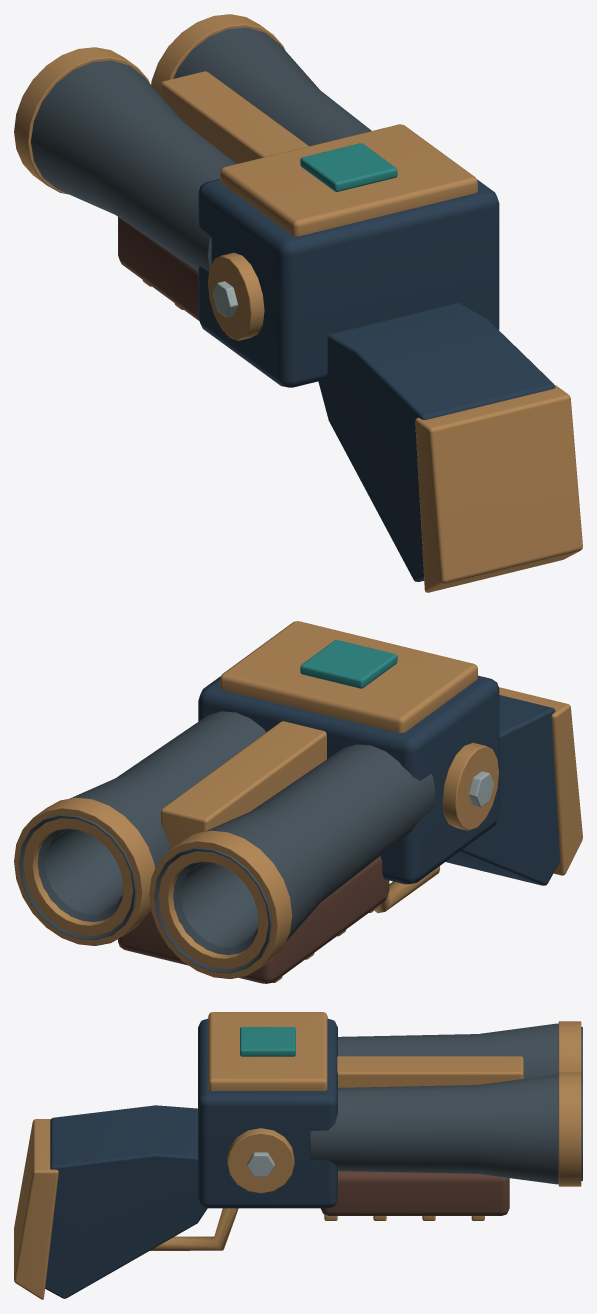
The model's file is shotgun.glb.
3 views of the same model, one above another, from view 1: azimuth 30°, elevation 25°; view 2: azimuth 150°, elevation 25°; view 3: azimuth 270°, elevation 25° (orthographic). The views are drawn at different scales.
Parts seen in each view (by area): view 1: shotgun__receiver, shotgun__stock_plate, shotgun__short_stock, shotgun__scatter_barrel_0, shotgun__receiver_top, shotgun__scatter_barrel_1, shotgun__barrel_bridge, shotgun__lower_handguard, shotgun__scatter_lip_0, shotgun__hinge_neg1, shotgun__core_inlay, shotgun__scatter_lip_1; view 2: shotgun__scatter_barrel_0, shotgun__scatter_barrel_1, shotgun__receiver, shotgun__receiver_top, shotgun__short_stock, shotgun__barrel_bridge, shotgun__scatter_lip_0, shotgun__scatter_lip_1, shotgun__lower_handguard, shotgun__stock_plate, shotgun__hinge_neg1, shotgun__core_inlay (+2 smaller); view 3: shotgun__short_stock, shotgun__scatter_barrel_1, shotgun__receiver, shotgun__receiver_top, shotgun__lower_handguard, shotgun__scatter_barrel_0, shotgun__stock_plate, shotgun__barrel_bridge, shotgun__hinge_1, shotgun__scatter_lip_1, shotgun__core_inlay, shotgun__trigger_guard (+2 smaller).
Part boxes in pixels (x1=…): shotgun__receiver: x1=198, y1=179, x2=499, y2=387; shotgun__stock_plate: x1=415, y1=385, x2=582, y2=592; shotgun__short_stock: x1=318, y1=303, x2=555, y2=581; shotgun__scatter_barrel_0: x1=31, y1=60, x2=236, y2=271; shotgun__receiver_top: x1=220, y1=124, x2=477, y2=236; shotgun__scatter_barrel_1: x1=173, y1=27, x2=371, y2=146; shotgun__barrel_bridge: x1=161, y1=71, x2=308, y2=163; shotgun__lower_handguard: x1=118, y1=217, x2=199, y2=320; shotgun__scatter_lip_0: x1=14, y1=47, x2=149, y2=194; shotgun__hinge_neg1: x1=208, y1=252, x2=264, y2=340; shotgun__core_inlay: x1=300, y1=143, x2=397, y2=191; shotgun__scatter_lip_1: x1=151, y1=14, x2=284, y2=95; shotgun__scatter_barrel_0: x1=154, y1=744, x2=435, y2=973; shotgun__scatter_barrel_1: x1=19, y1=711, x2=266, y2=940; shotgun__receiver: x1=198, y1=675, x2=499, y2=884; shotgun__receiver_top: x1=220, y1=621, x2=477, y2=732; shotgun__short_stock: x1=446, y1=695, x2=560, y2=885; shotgun__barrel_bridge: x1=161, y1=721, x2=326, y2=848; shotgun__scatter_lip_0: x1=149, y1=830, x2=292, y2=978; shotgun__scatter_lip_1: x1=14, y1=797, x2=155, y2=945; shotgun__lower_handguard: x1=118, y1=856, x2=389, y2=983; shotgun__stock_plate: x1=499, y1=687, x2=582, y2=875; shotgun__hinge_neg1: x1=442, y1=742, x2=498, y2=830; shotgun__core_inlay: x1=300, y1=640, x2=397, y2=688; shotgun__short_stock: x1=45, y1=1105, x2=207, y2=1298; shotgun__scatter_barrel_1: x1=310, y1=1074, x2=582, y2=1184; shotgun__receiver: x1=198, y1=1018, x2=337, y2=1208; shotgun__receiver_top: x1=208, y1=1012, x2=327, y2=1090; shotgun__lower_handguard: x1=320, y1=1171, x2=509, y2=1215; shotgun__scatter_barrel_0: x1=338, y1=1023, x2=582, y2=1078; shotgun__stock_plate: x1=14, y1=1119, x2=58, y2=1299; shotgun__barrel_bridge: x1=337, y1=1056, x2=523, y2=1087; shotgun__hinge_1: x1=227, y1=1128, x2=294, y2=1193; shotgun__scatter_lip_1: x1=558, y1=1072, x2=581, y2=1186; shotgun__core_inlay: x1=240, y1=1027, x2=295, y2=1056; shotgun__trigger_guard: x1=150, y1=1208, x2=238, y2=1250.
Bounding box in the file's own units: 0.336 × 0.3729 × 0.8119.
